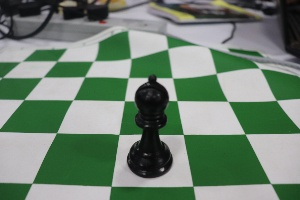black_bishop: (120, 63, 178, 183)
